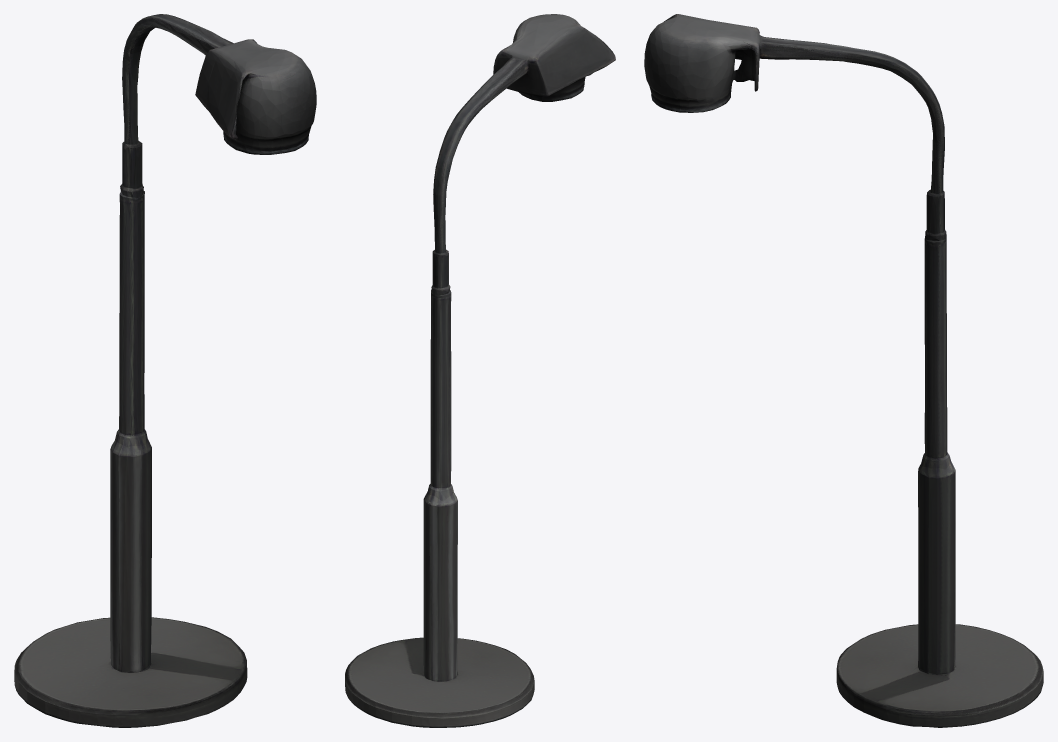
The model's file is edit_mesh.glb.
The picture shows the model from 3 angles, left to right: view 1: azimuth 30°, elevation 25°; view 2: azimuth 150°, elevation 25°; view 3: azimuth 270°, elevation 25°; orthographic projection. The views are drawn at different scales.
Visible parts, largest first — view 1: world; view 2: world; view 3: world.
Part boxes in pixels (bbox=[...]): world: bbox=[14, 14, 316, 727]; world: bbox=[345, 14, 615, 727]; world: bbox=[644, 14, 1043, 727].
Bounding box in the file's own units: 0.2946 × 0.9894 × 0.5447.
Materials: 1 (1 with a texture image).
